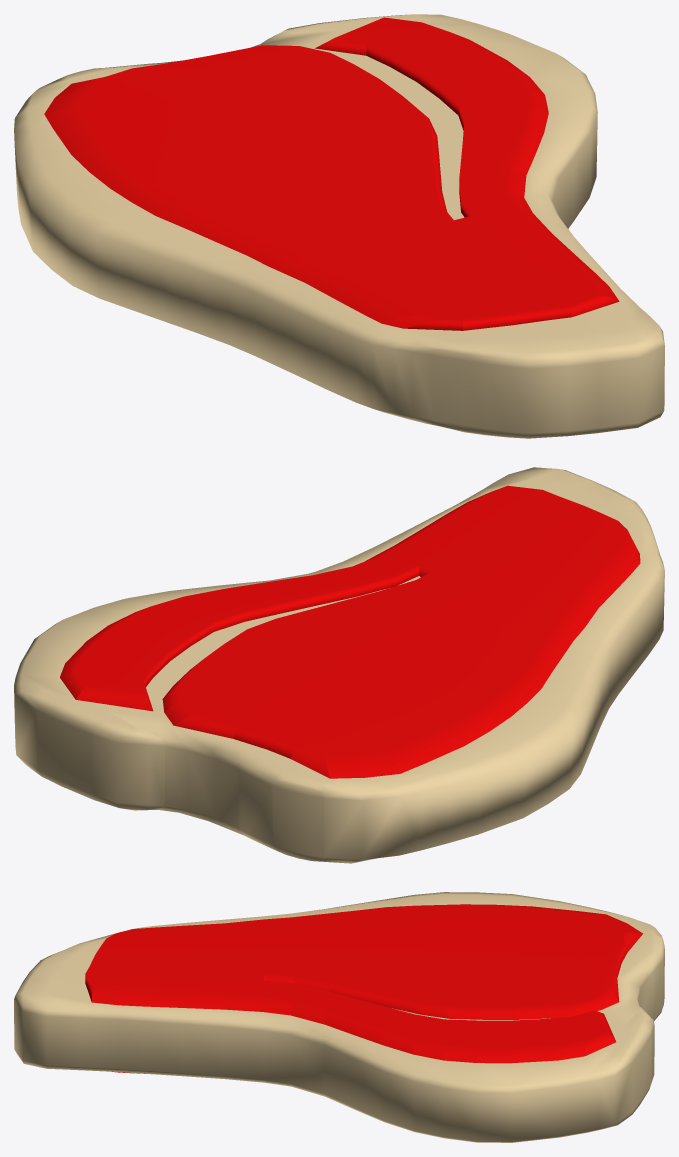
Rendered from steak.fbx.
3 renders of one model, top to bottom at view 1: azimuth 30°, elevation 25°; view 2: azimuth 150°, elevation 25°; view 3: azimuth 270°, elevation 25°, orthographic. The views are drawn at different scales.
Parts seen in each view (by area): view 1: steak; view 2: steak; view 3: steak.
Boxes of the visible parts, <box> form: steak: <box>14,14,664,438</box>; steak: <box>14,467,664,863</box>; steak: <box>14,892,664,1142</box>.
Bounding box in the file's own units: 2.13 × 0.4122 × 2.92.
